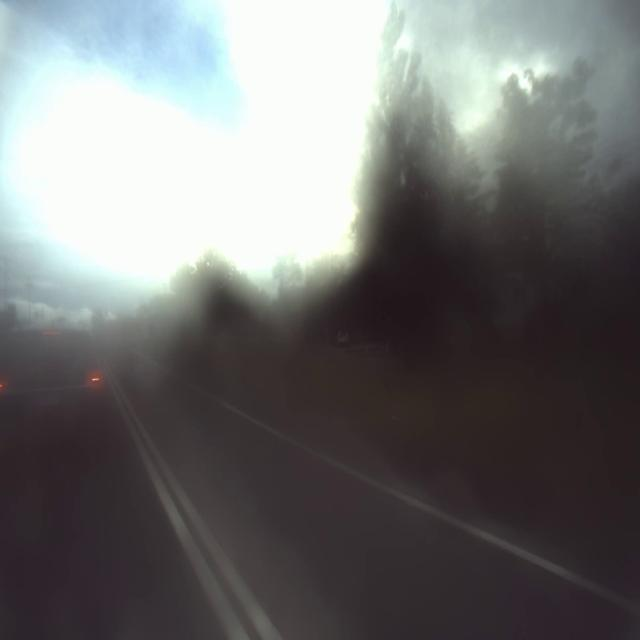car: (4, 328, 105, 448)
